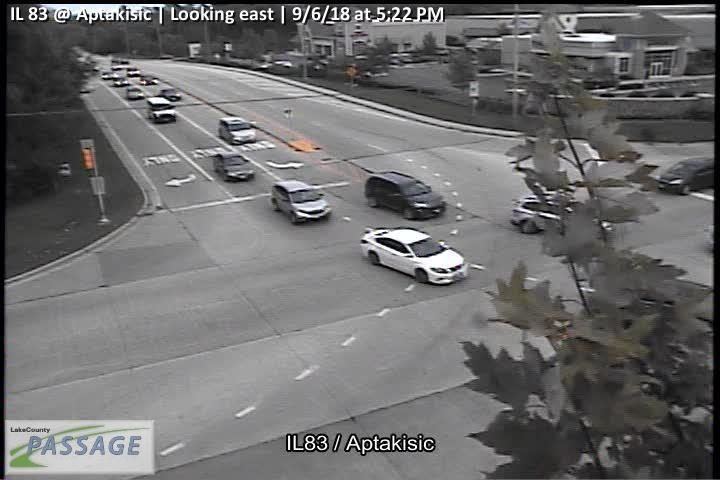SUV: (363, 170, 448, 222), (271, 178, 333, 226), (218, 118, 259, 146), (147, 98, 179, 125)
Sedan: (358, 226, 469, 287), (655, 155, 715, 196), (214, 153, 257, 183), (160, 88, 182, 101), (126, 87, 144, 100)
